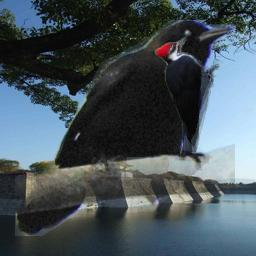Crow: (15, 20, 235, 236)
Woodpecker: (153, 36, 220, 155)
